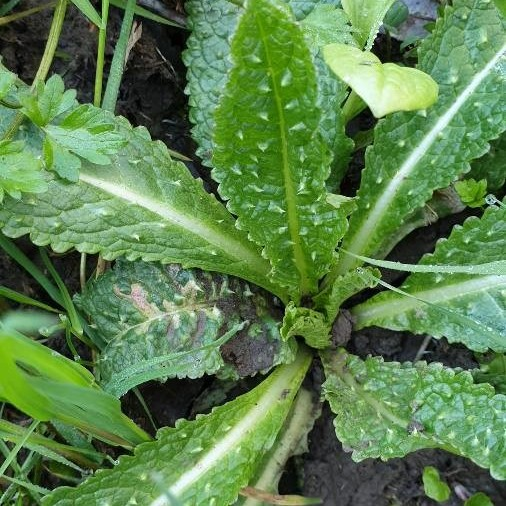obstacle: (37, 8, 489, 476)
